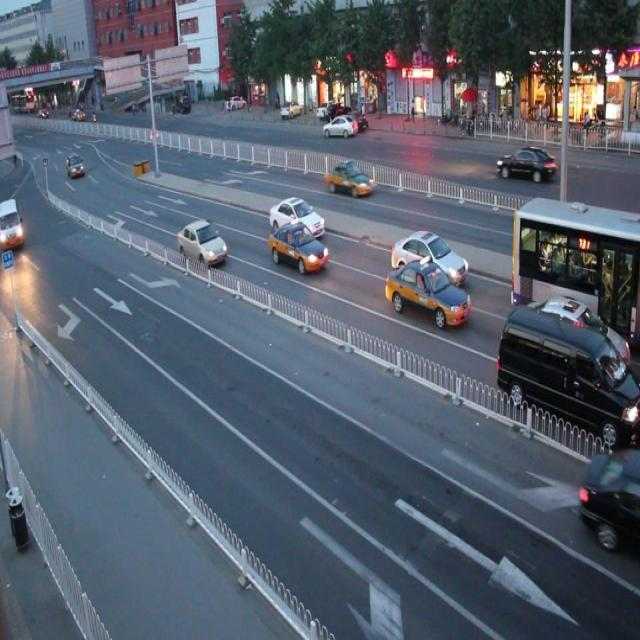car: (517, 294, 628, 390), (578, 442, 640, 548), (385, 258, 469, 325), (390, 228, 467, 283), (270, 221, 328, 273), (177, 218, 228, 268), (270, 197, 324, 239), (497, 145, 555, 182), (326, 160, 374, 198)
truck: (496, 300, 640, 446)
van: (510, 193, 640, 350)
